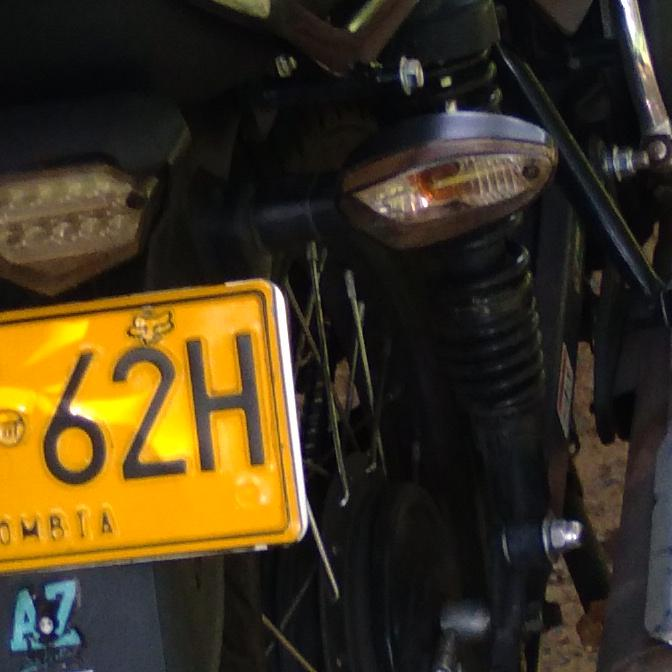plates: (0, 281, 309, 576)
